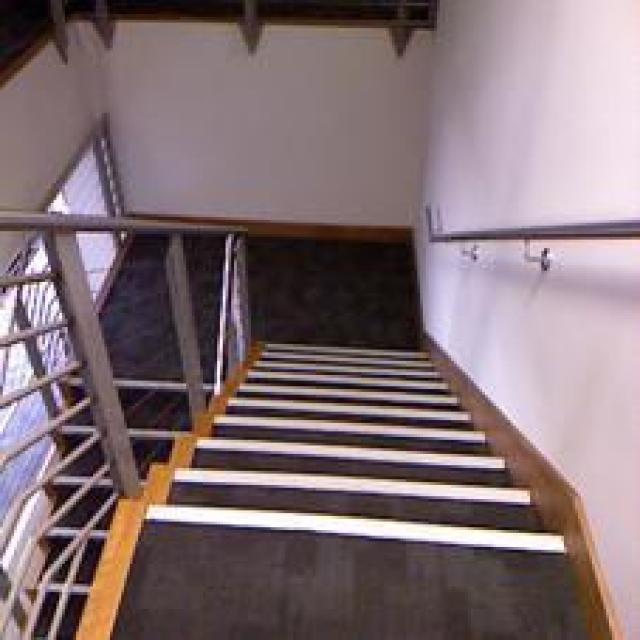downstair: (148, 390, 548, 579)
